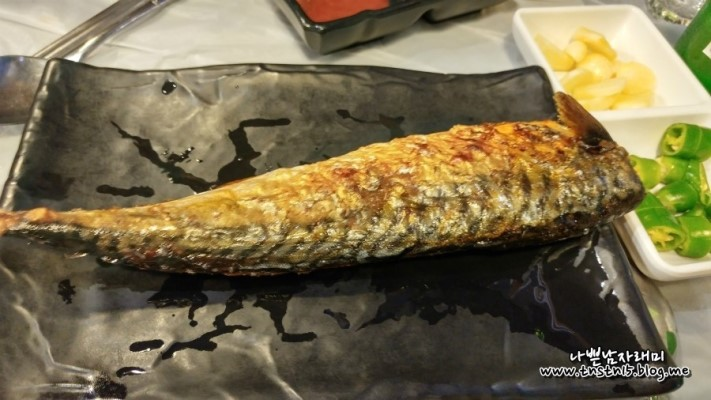godeung-eogu-i: (6, 115, 646, 280)
